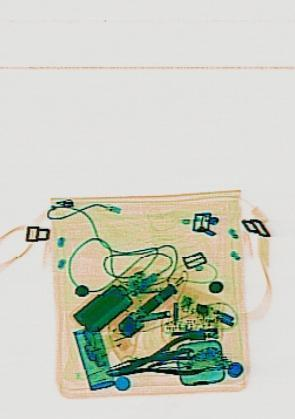Pliers: (102, 327, 209, 394)
